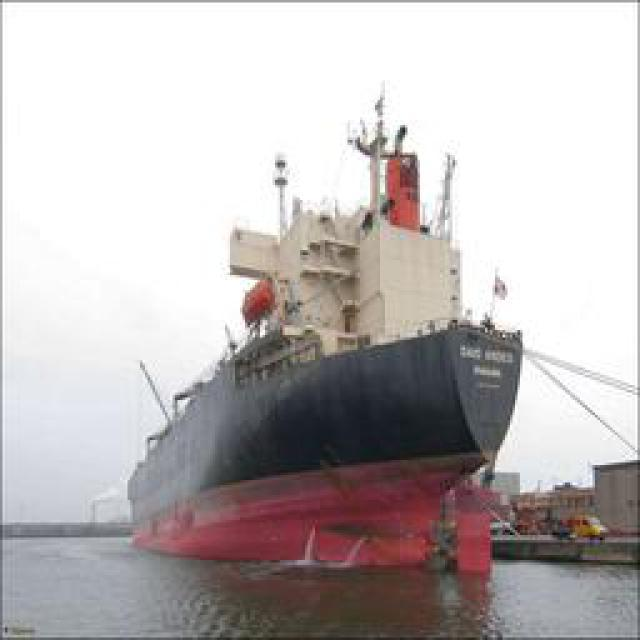Ship: (123, 78, 529, 576)
